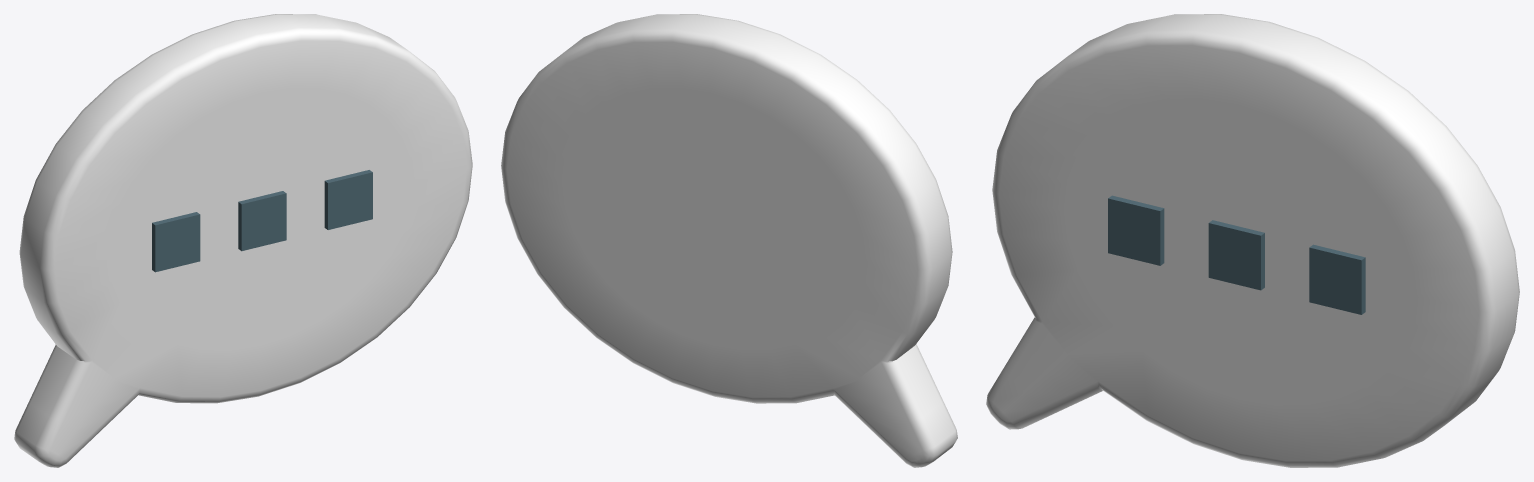
Rendered from speech_balloon.gltf.
3 views of the same model, side by side, from view 1: azimuth 30°, elevation 25°; view 2: azimuth 150°, elevation 25°; view 3: azimuth 330°, elevation 25° (orthographic). The views are drawn at different scales.
Visible parts, largest first — view 1: Circle.023; view 2: Circle.023; view 3: Circle.023.
Boxes of the visible parts, box(x1,y1,x2,y2) form: Circle.023: box(14, 14, 472, 467); Circle.023: box(501, 14, 957, 467); Circle.023: box(986, 14, 1519, 467).
Bounding box in the file's own units: 2.03 × 1.7 × 0.2626.
Materials: 1 (1 with a texture image).
